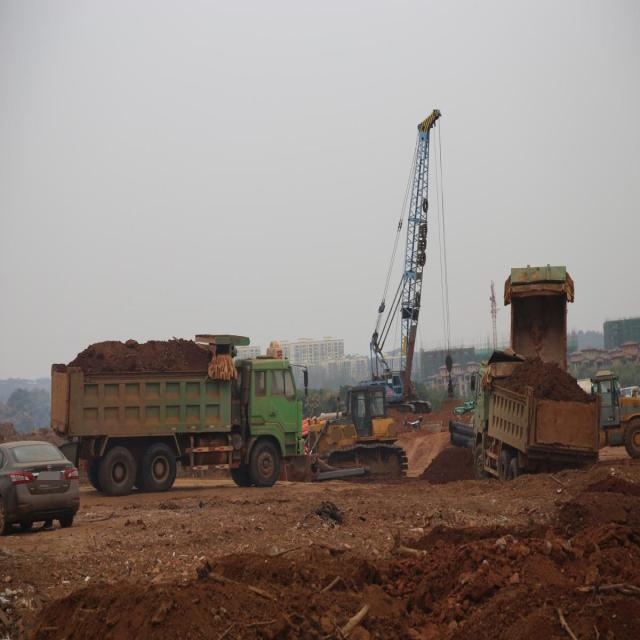crane: (361, 100, 459, 428)
machinery: (569, 362, 640, 467)
truck: (42, 329, 312, 500), (463, 344, 607, 486)
